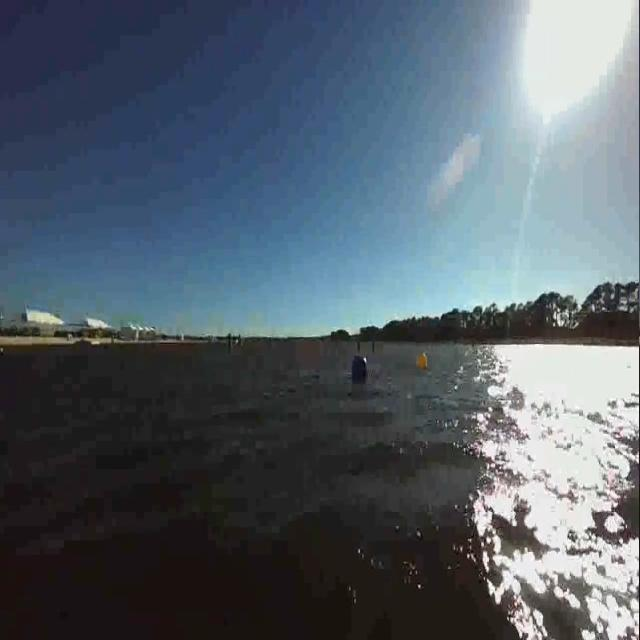blue-buoy: (350, 353, 368, 383)
yellow-buoy: (418, 353, 428, 371)
